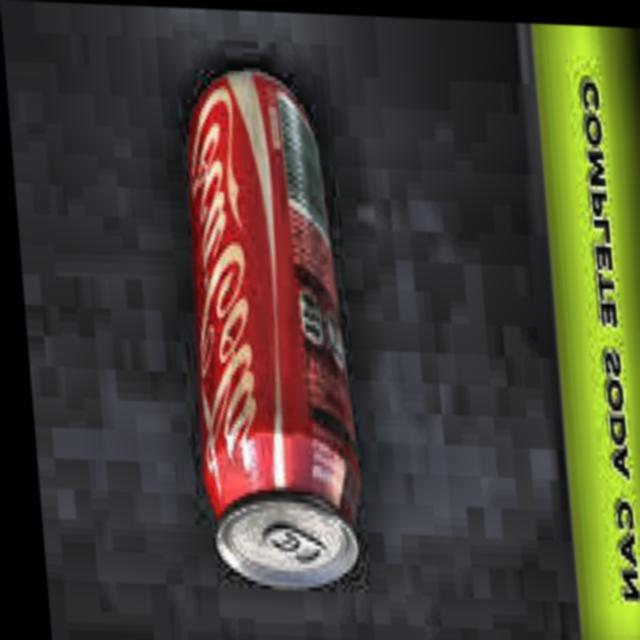can: (169, 62, 369, 598)
